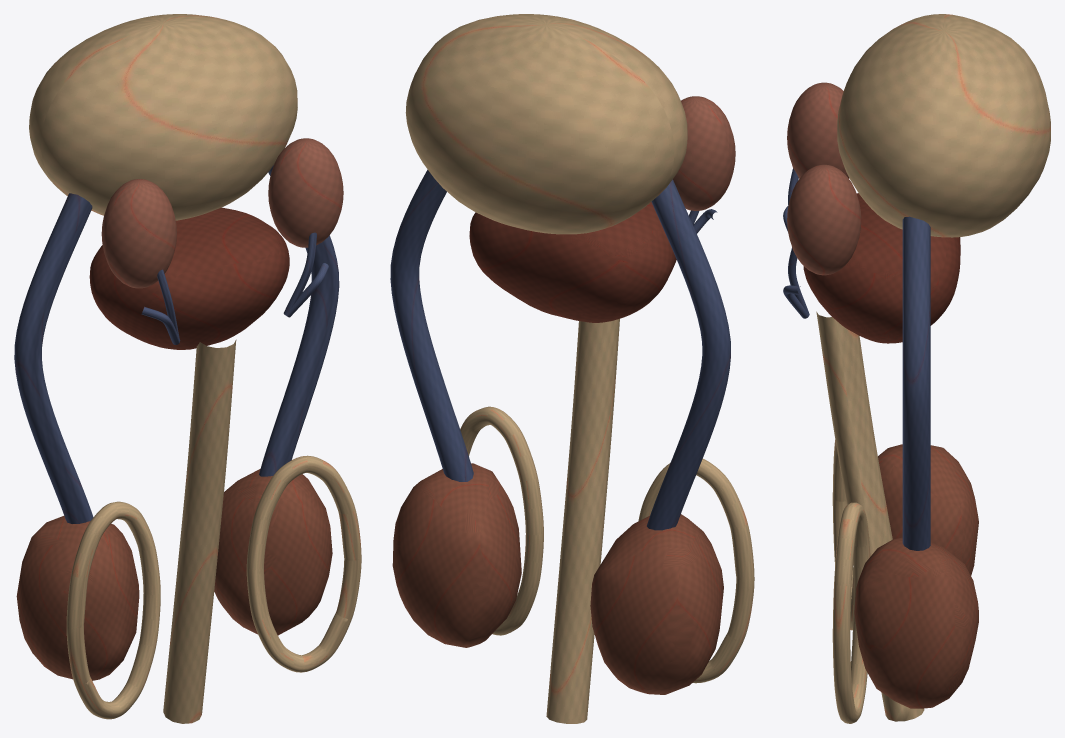
Rendered from male-reproductive.4f704081.glb.
3 views of the same model, side by side, from view 1: azimuth 30°, elevation 25°; view 2: azimuth 150°, elevation 25°; view 3: azimuth 270°, elevation 25° (orthographic). The views are drawn at different scales.
Parts seen in each view (by area): view 1: procedural-male-reproductive-surface-1, Prostate, procedural-male-reproductive-surface-6, Right testis, Left testis, procedural-male-reproductive-surface-2, procedural-male-reproductive-surface-10, procedural-male-reproductive-surface-7, procedural-male-reproductive-surface-4, procedural-male-reproductive-surface-5, procedural-male-reproductive-surface-3, procedural-male-reproductive-surface-12; view 2: procedural-male-reproductive-surface-1, Right testis, Left testis, procedural-male-reproductive-surface-6, Prostate, procedural-male-reproductive-surface-2, procedural-male-reproductive-surface-3, procedural-male-reproductive-surface-10, procedural-male-reproductive-surface-4, procedural-male-reproductive-surface-7; view 3: procedural-male-reproductive-surface-1, Left testis, Prostate, procedural-male-reproductive-surface-3, procedural-male-reproductive-surface-6, procedural-male-reproductive-surface-5, Right testis, procedural-male-reproductive-surface-10, procedural-male-reproductive-surface-4, procedural-male-reproductive-surface-7.
Part boxes in pixels (<box>): procedural-male-reproductive-surface-1: <box>29,14,297,220</box>; Prostate: <box>89,207,289,349</box>; procedural-male-reproductive-surface-6: <box>163,339,236,723</box>; Right testis: <box>16,516,139,680</box>; Left testis: <box>214,469,332,635</box>; procedural-male-reproductive-surface-2: <box>14,193,93,523</box>; procedural-male-reproductive-surface-10: <box>246,455,361,672</box>; procedural-male-reproductive-surface-7: <box>66,501,160,719</box>; procedural-male-reproductive-surface-4: <box>101,179,176,288</box>; procedural-male-reproductive-surface-5: <box>268,138,343,247</box>; procedural-male-reproductive-surface-3: <box>259,165,339,476</box>; procedural-male-reproductive-surface-12: <box>283,232,316,315</box>; procedural-male-reproductive-surface-1: <box>405,14,687,234</box>; Right testis: <box>590,514,723,694</box>; Left testis: <box>392,463,521,647</box>; procedural-male-reproductive-surface-6: <box>546,318,619,723</box>; Prostate: <box>469,202,676,322</box>; procedural-male-reproductive-surface-2: <box>647,179,730,530</box>; procedural-male-reproductive-surface-3: <box>390,169,473,481</box>; procedural-male-reproductive-surface-10: <box>460,406,543,635</box>; procedural-male-reproductive-surface-4: <box>673,96,735,210</box>; procedural-male-reproductive-surface-7: <box>638,459,754,683</box>; procedural-male-reproductive-surface-1: <box>837,14,1050,237</box>; Left testis: <box>854,537,978,708</box>; Prostate: <box>803,193,960,343</box>; procedural-male-reproductive-surface-3: <box>902,216,930,550</box>; procedural-male-reproductive-surface-6: <box>816,311,924,721</box>; procedural-male-reproductive-surface-5: <box>787,164,861,275</box>; Right testis: <box>878,444,978,575</box>; procedural-male-reproductive-surface-10: <box>832,502,870,723</box>; procedural-male-reproductive-surface-4: <box>787,82,849,178</box>; procedural-male-reproductive-surface-7: <box>832,440,853,630</box>.
Size of the model in its own units: 1.62 by 3.27 by 1.16.
5 materials, 5 textured.
